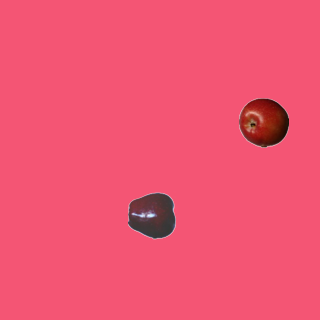Apple Braeburn: (238, 97, 288, 147)
Apple Red Delicious: (127, 190, 177, 240)
